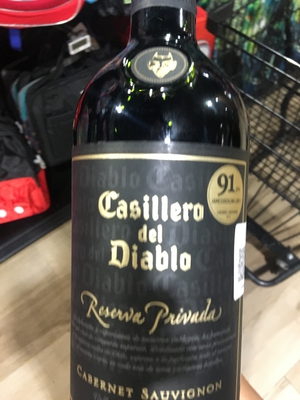casillero del diablo reserva privada cabernet sauvignon: (60, 7, 253, 400)
